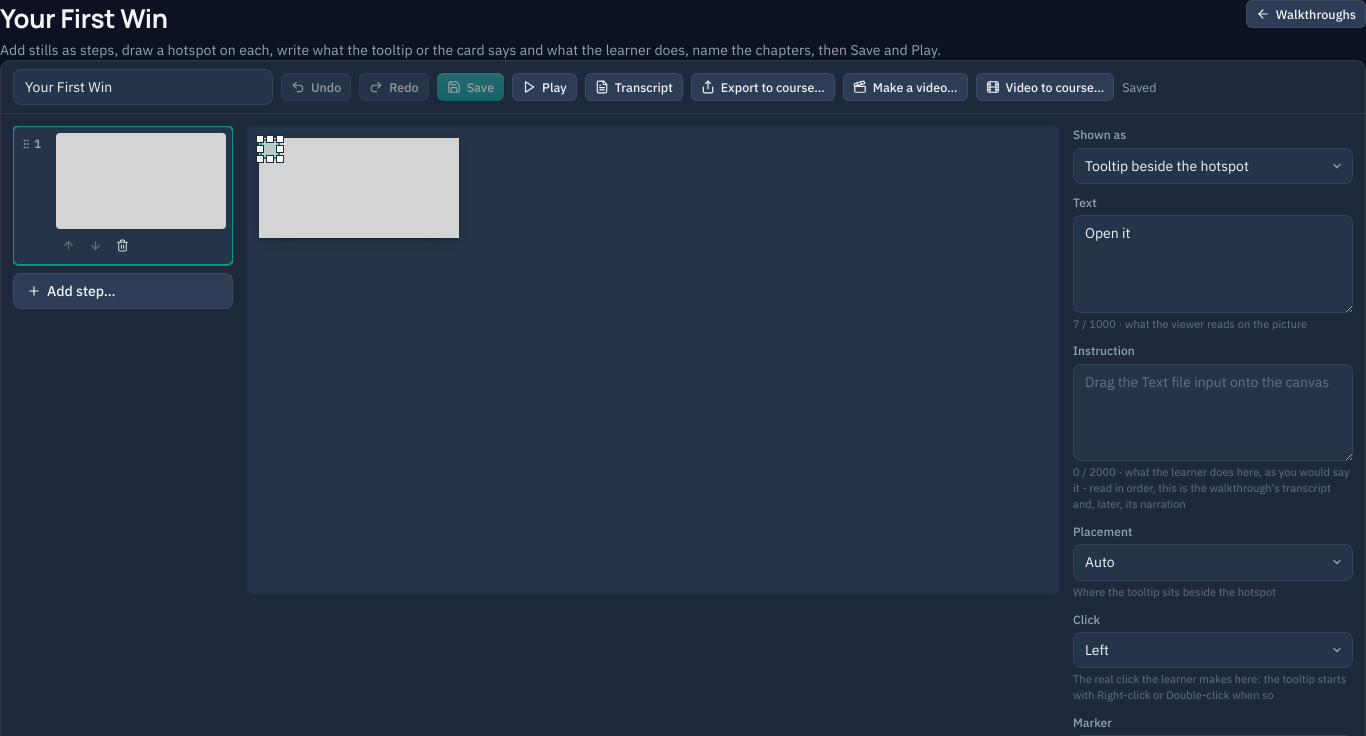
Test: Video to course… (R1) › drops the course part for a walkthrough from no course workshop
What coordinates should you click on to do the following:
click the button "Video to course…"
I would click on:
 (1045, 87)
Its box is [976,73,1114,101].
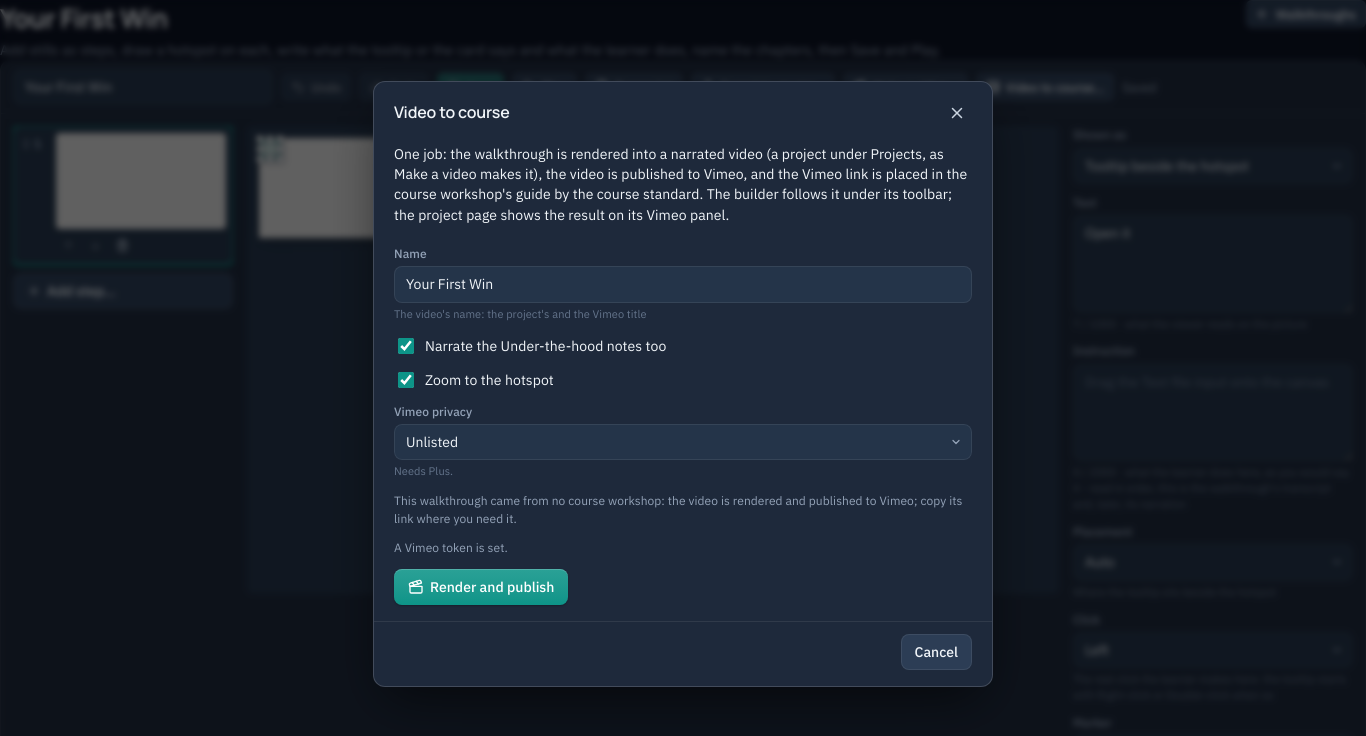
Check: the text "place" is not shown
Check: the text "This walkthrough came from no course workshop: the video is rendered and published to Vimeo; copy its link where you need it." is shown, box [394,493,962,526]
Check: the button "Render and publish" is shown, box [394,568,568,605]
